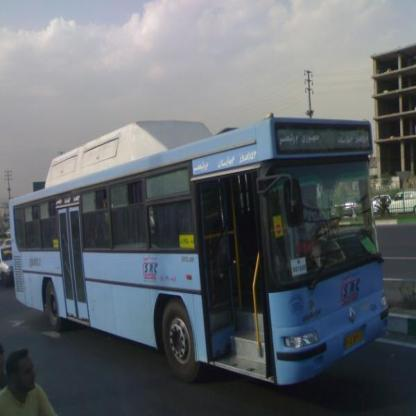Bus: (14, 118, 393, 387)
Car: (0, 236, 19, 289)
